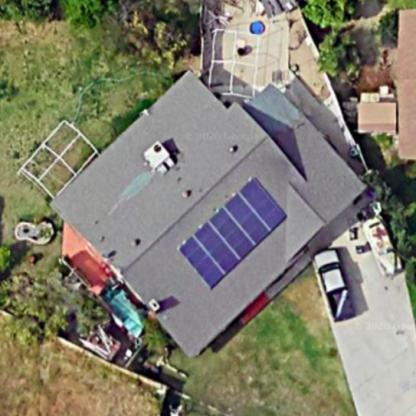car: (310, 241, 362, 329)
solar_panel: (175, 171, 290, 306)
